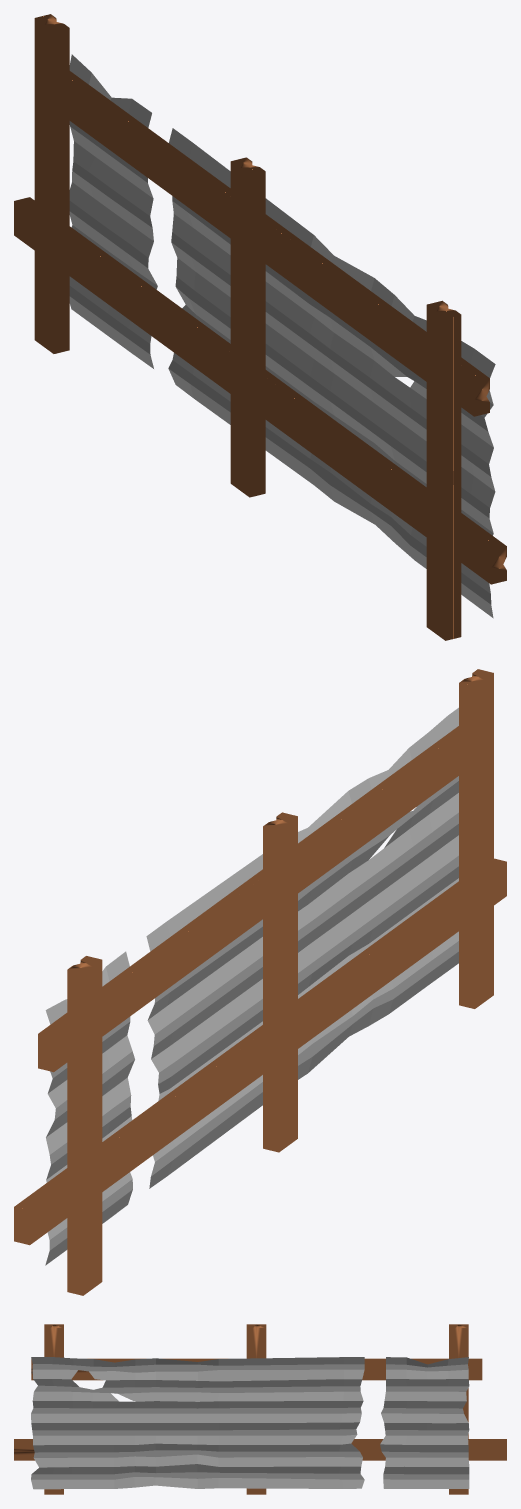
The model's file is fence6.fbx.
The picture shows the model from 3 angles, top to bottom: view 1: azimuth 30°, elevation 25°; view 2: azimuth 150°, elevation 25°; view 3: azimuth 270°, elevation 25°; orthographic projection. The views are drawn at different scales.
Visible parts, largest first — view 1: Plane.004; view 2: Plane.004; view 3: Plane.004.
Part boxes in pixels (left/top/right/bottom): Plane.004: left=14, top=14, right=506, bottom=640; Plane.004: left=14, top=669, right=506, bottom=1295; Plane.004: left=14, top=1324, right=506, bottom=1494.
Bounding box in the file's own units: 14.6 × 120 × 323.
